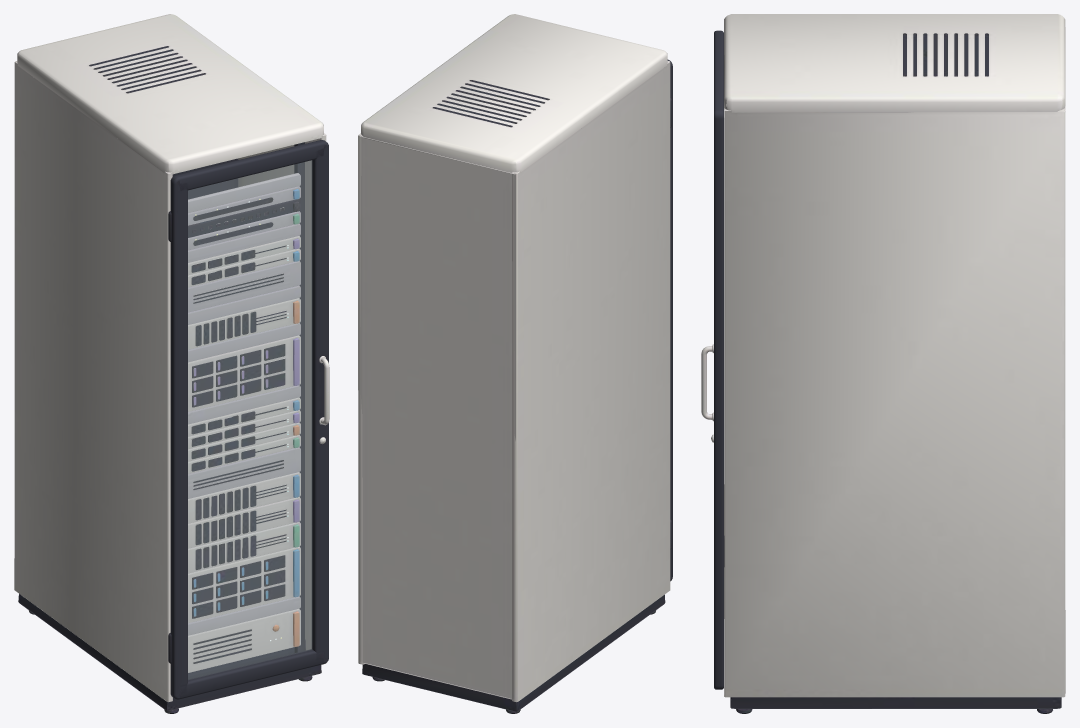
The model's file is server-rack-light.glb.
The picture shows the model from 3 angles, left to right: view 1: azimuth 30°, elevation 25°; view 2: azimuth 150°, elevation 25°; view 3: azimuth 270°, elevation 25°; orthographic projection. The views are drawn at different scales.
Parts seen in each view (by area): view 1: server-rack_body, server-rack_door_glass, server-rack_door; view 2: server-rack_body, server-rack_door; view 3: server-rack_body, server-rack_door.
Part boxes in pixels (x1=…): server-rack_body: x1=14, y1=14, x2=326, y2=713; server-rack_door_glass: x1=188, y1=160, x2=311, y2=679; server-rack_door: x1=168, y1=140, x2=329, y2=699; server-rack_body: x1=358, y1=14, x2=670, y2=713; server-rack_door: x1=667, y1=59, x2=672, y2=581; server-rack_body: x1=724, y1=14, x2=1065, y2=713; server-rack_door: x1=701, y1=30, x2=724, y2=689.
Bounding box in the file's own units: 0.5988 × 2 × 1.07.
Materials: 6 (2 with a texture image).
